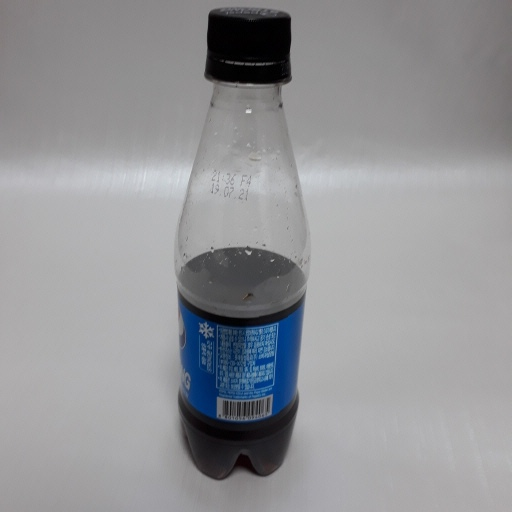Plastic_0: (170, 8, 312, 481)
